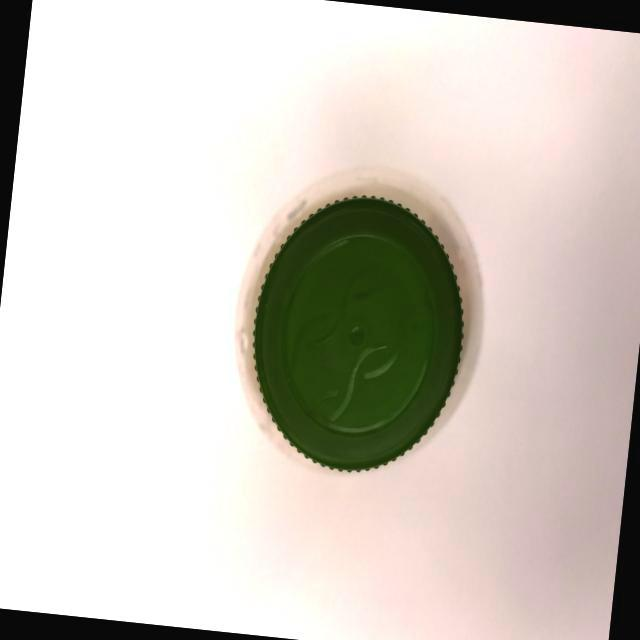plastic: (209, 140, 484, 546)
